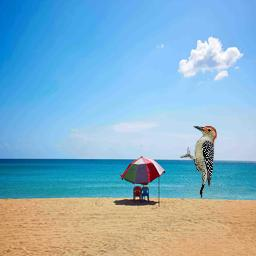Woodpecker: (180, 126, 217, 198)
